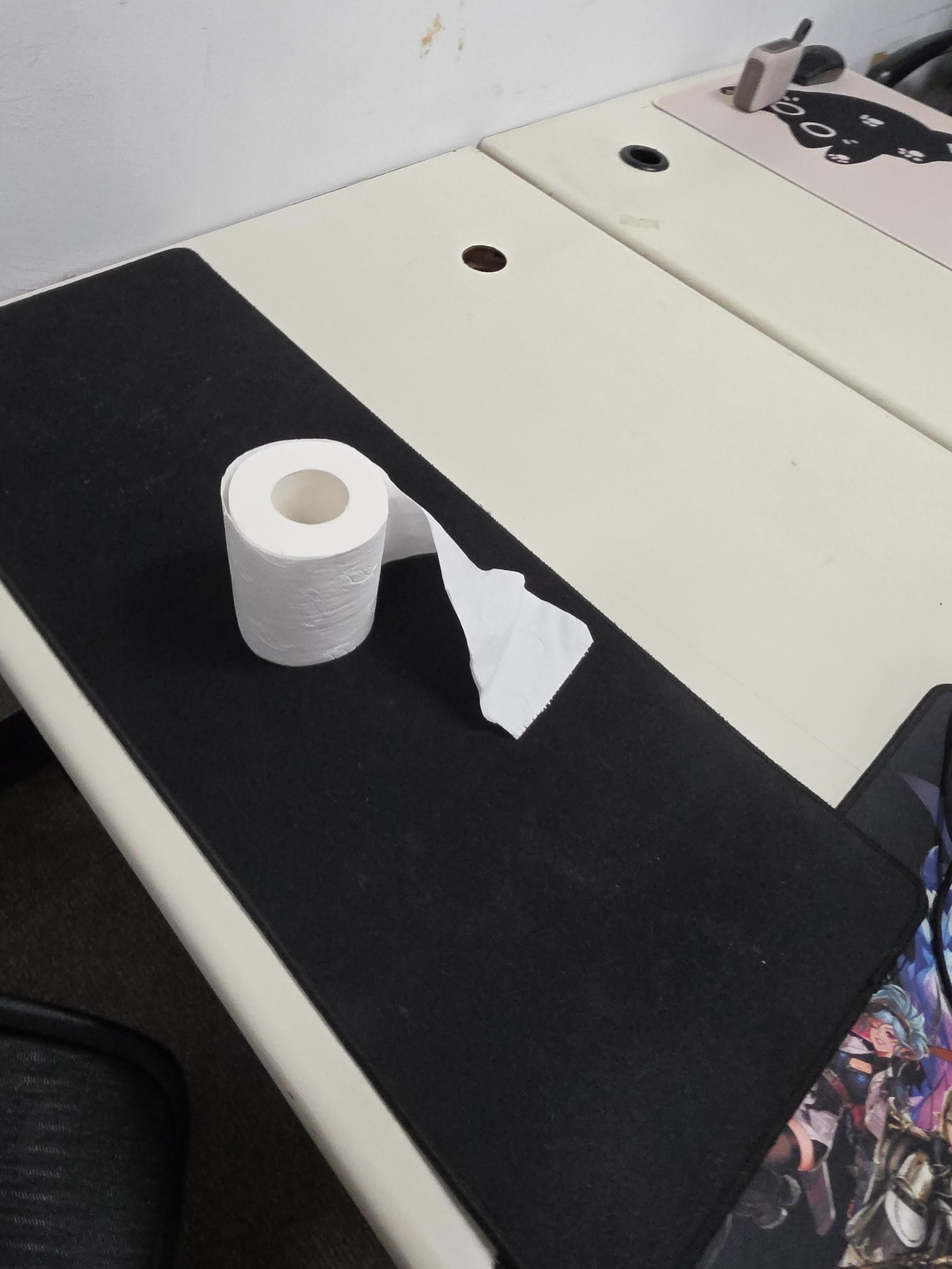tissue: (220, 438, 594, 739)
